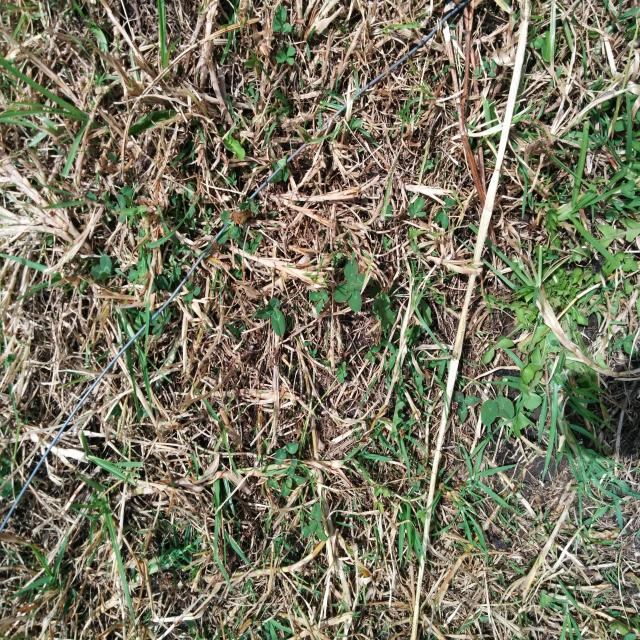Four Leaf Clover: (334, 259, 373, 312)
